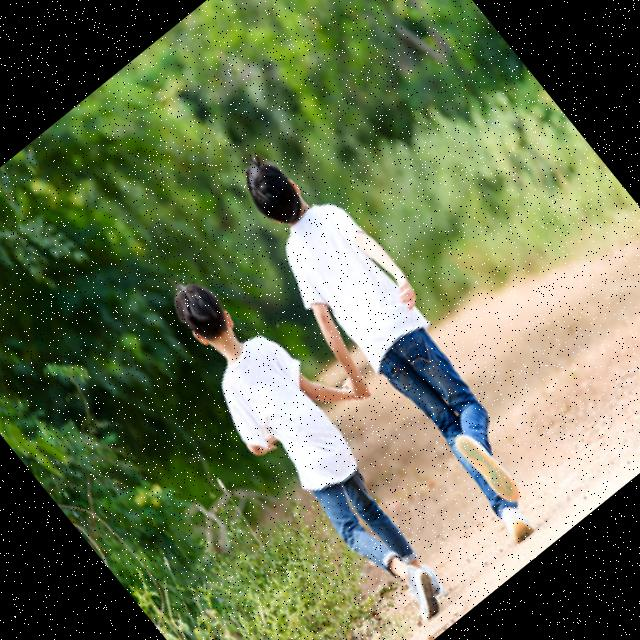Person: (200, 130, 583, 566), (142, 242, 496, 640)
